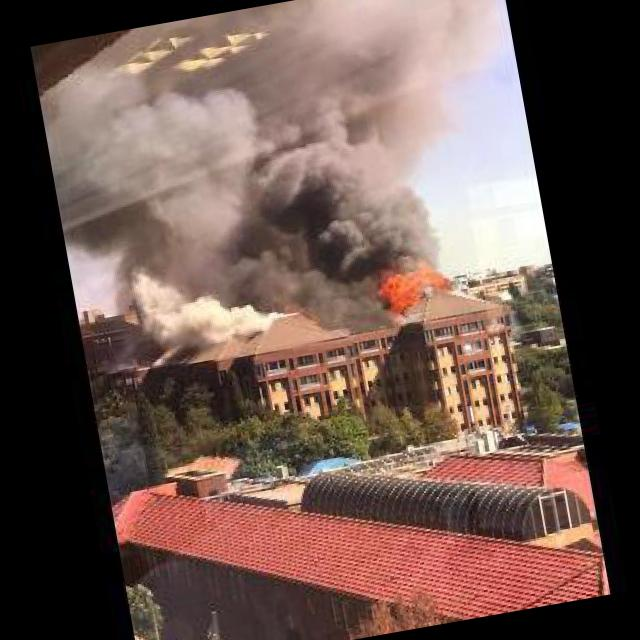Smoke: (47, 0, 441, 311), (364, 252, 461, 326)
